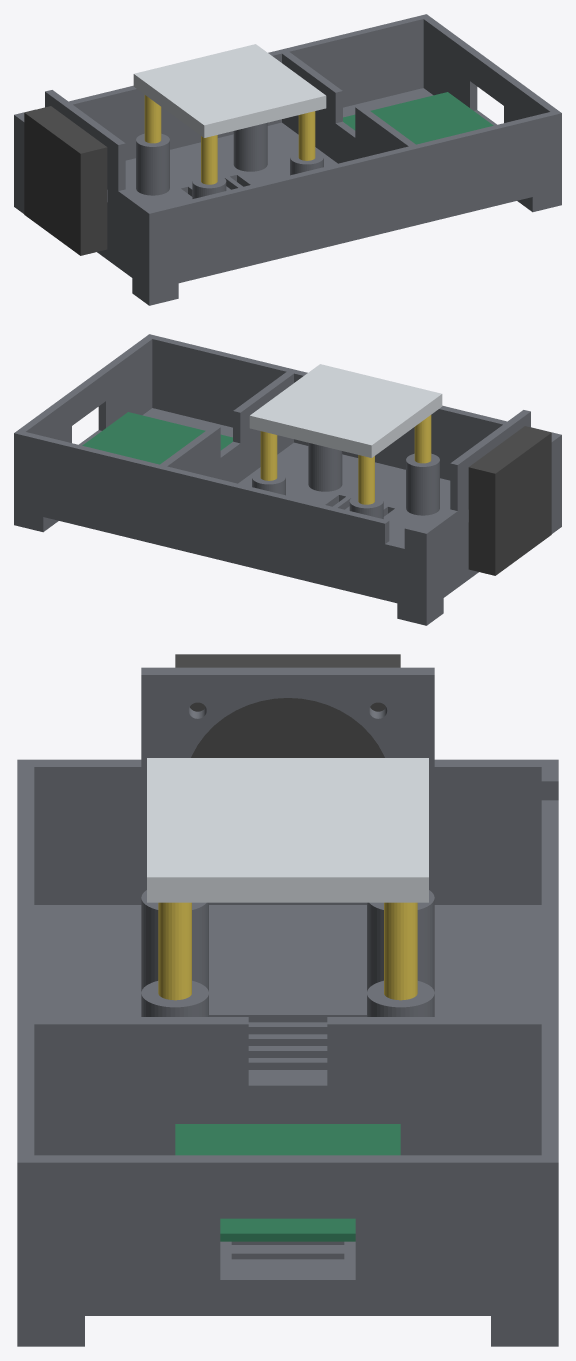
Rendered from hotplate_assembly.glb.
The picture shows the model from 3 angles, top to bottom: view 1: azimuth 30°, elevation 25°; view 2: azimuth 150°, elevation 25°; view 3: azimuth 270°, elevation 25°; orthographic projection. The views are drawn at different scales.
Parts seen in each view (by area): view 1: frame (PA-CF), aluminum plate, 40mm fan, THR board, spring_2, spring, spring_1; view 2: frame (PA-CF), aluminum plate, 40mm fan, THR board, spring_3, spring_1, spring; view 3: frame (PA-CF), aluminum plate, 40mm fan, THR board, spring_2, spring_3.
Boxes of the visible parts, box(x1,y1,x2,y2) form: frame (PA-CF): box(14, 14, 561, 305); aluminum plate: box(133, 44, 326, 137); 40mm fan: box(24, 106, 107, 255); THR board: box(343, 92, 493, 144); spring_2: box(298, 111, 315, 160); spring: box(201, 135, 217, 184); spring_1: box(144, 95, 161, 143); frame (PA-CF): box(14, 334, 561, 625); aluminum plate: box(249, 364, 442, 457); 40mm fan: box(468, 426, 551, 575); THR board: box(82, 412, 232, 464); spring_3: box(260, 431, 277, 480); spring_1: box(358, 455, 374, 504); spring: box(414, 415, 431, 463); frame (PA-CF): box(17, 667, 558, 1346); aluminum plate: box(147, 758, 428, 902); 40mm fan: box(175, 654, 400, 757); THR board: box(175, 1124, 400, 1241); spring_2: box(158, 902, 191, 1000); spring_3: box(384, 902, 417, 1000).
Bounding box in the file's own units: 181 × 54 × 96.
